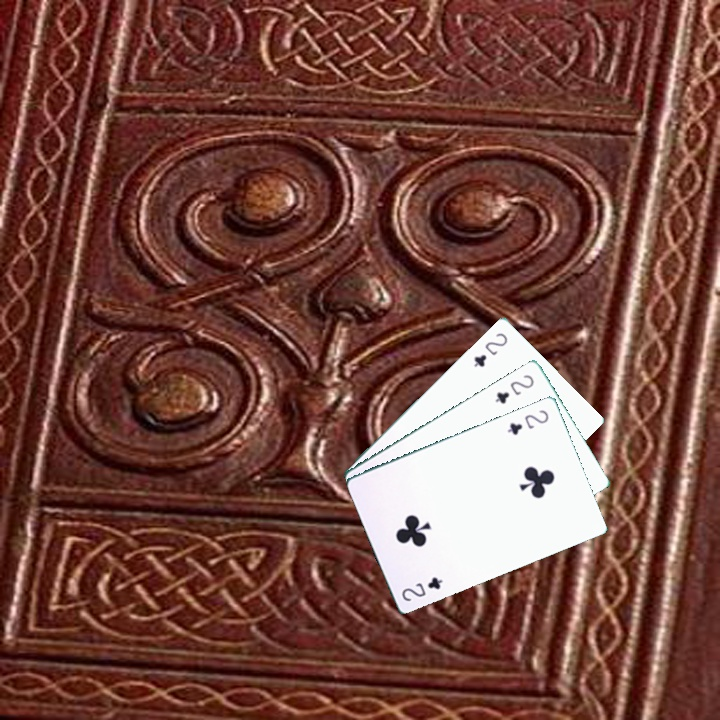2c: (470, 328, 510, 370), (491, 370, 537, 406), (503, 406, 551, 438), (398, 573, 445, 604)
